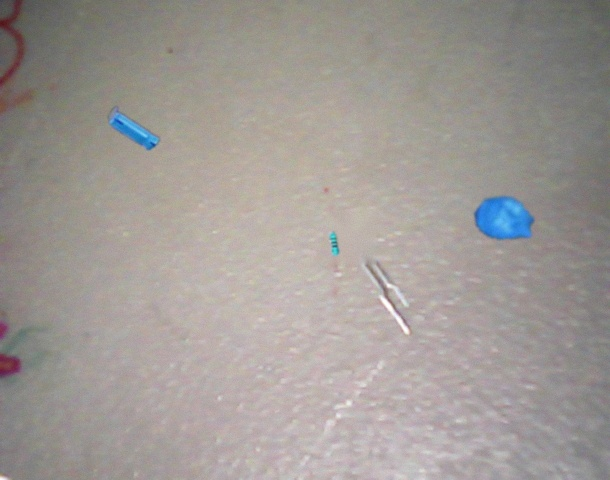capacitor: (474, 196, 534, 240), (108, 107, 160, 151)
resistor: (328, 231, 340, 256)
